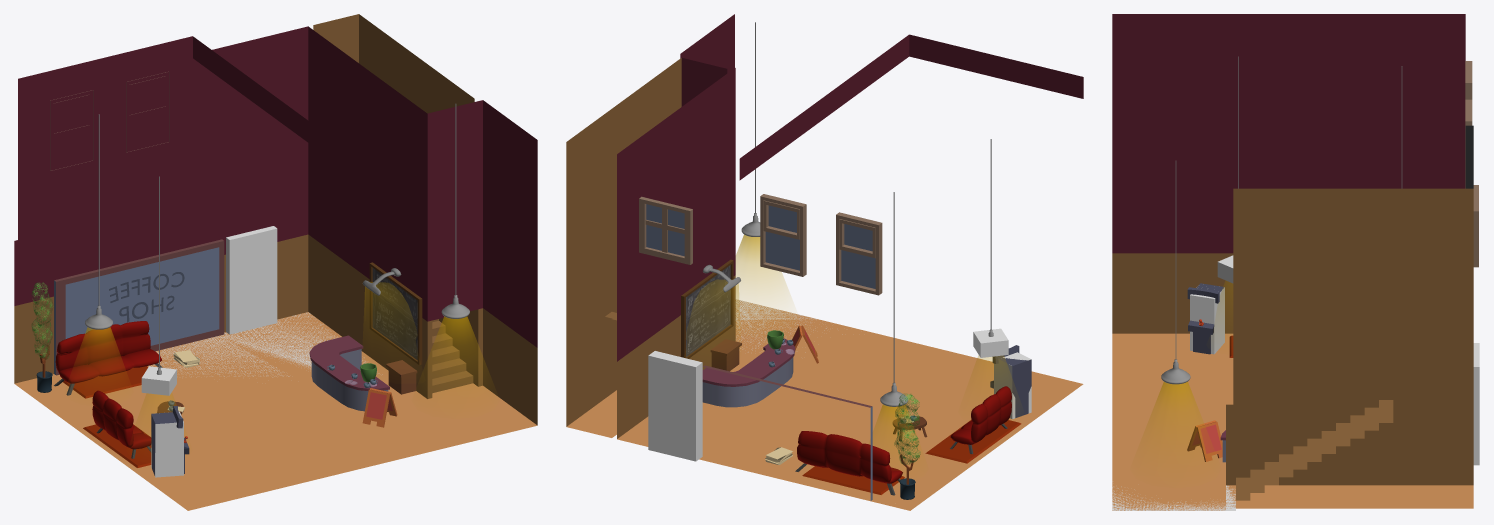
The model's file is coffee-shop.glb.
3 views of the same model, side by side, from view 1: azimuth 30°, elevation 25°; view 2: azimuth 150°, elevation 25°; view 3: azimuth 270°, elevation 25° (orthographic). The views are drawn at different scales.
Parts seen in each view (by area): view 1: coffee-shop, coffee-shop-windows, goto-room-town, sofa2, ground-clickable, coffee-board, bar, light-cone.002, light-cone.003, light-cone.001, stairs, sofa (+12 smaller); view 2: coffee-shop, goto-room-town, bar, coffee-board, coffee-shop-window-1, coffee-shop-window-2, sofa2, coffee-shop-window-3, light-cone.003, light-cone.002, sofa, tree (+11 smaller); view 3: coffee-shop, stairs, light-cone.002, clickable, ground-clickable, astro-box, sign, goto-room-town, hang-light.002, coffee-shop-window-3, light-cone.
Boxes of the visible parts, x1=… form: coffee-shop: x1=14, y1=14, x2=537, y2=510; coffee-shop-windows: x1=54, y1=239, x2=224, y2=375; goto-room-town: x1=226, y1=226, x2=277, y2=334; sofa2: x1=54, y1=321, x2=162, y2=395; ground-clickable: x1=149, y1=312, x2=382, y2=377; coffee-board: x1=369, y1=262, x2=422, y2=364; bar: x1=309, y1=335, x2=389, y2=411; light-cone.002: x1=423, y1=316, x2=488, y2=385; light-cone.003: x1=364, y1=282, x2=415, y2=342; light-cone.001: x1=73, y1=327, x2=124, y2=380; stairs: x1=432, y1=319, x2=473, y2=393; sofa: x1=92, y1=390, x2=151, y2=458; coffee-shop: x1=566, y1=14, x2=1083, y2=510; goto-room-town: x1=648, y1=351, x2=702, y2=461; bar: x1=702, y1=338, x2=795, y2=407; coffee-board: x1=681, y1=259, x2=733, y2=358; coffee-shop-window-1: x1=760, y1=194, x2=806, y2=276; coffee-shop-window-2: x1=836, y1=212, x2=882, y2=295; sofa2: x1=795, y1=431, x2=902, y2=495; coffee-shop-window-3: x1=639, y1=196, x2=692, y2=264; light-cone.003: x1=689, y1=279, x2=739, y2=338; light-cone.002: x1=736, y1=234, x2=787, y2=303; sofa: x1=950, y1=386, x2=1011, y2=454; tree: x1=894, y1=393, x2=920, y2=499; coffee-shop: x1=1112, y1=14, x2=1473, y2=510; stairs: x1=1236, y1=400, x2=1393, y2=500; light-cone.002: x1=1142, y1=382, x2=1209, y2=453; clickable: x1=1190, y1=287, x2=1224, y2=354; ground-clickable: x1=1112, y1=485, x2=1235, y2=510; astro-box: x1=1187, y1=283, x2=1224, y2=354; sign: x1=1187, y1=420, x2=1222, y2=461; goto-room-town: x1=1473, y1=343, x2=1479, y2=465; hang-light.002: x1=1161, y1=161, x2=1190, y2=384; coffee-shop-window-3: x1=1473, y1=185, x2=1478, y2=267; light-cone: x1=1217, y1=281, x2=1232, y2=318.
Size of the model in its own units: 23.56 by 20.47 by 20.53.
Materials: 33 (3 with a texture image).
